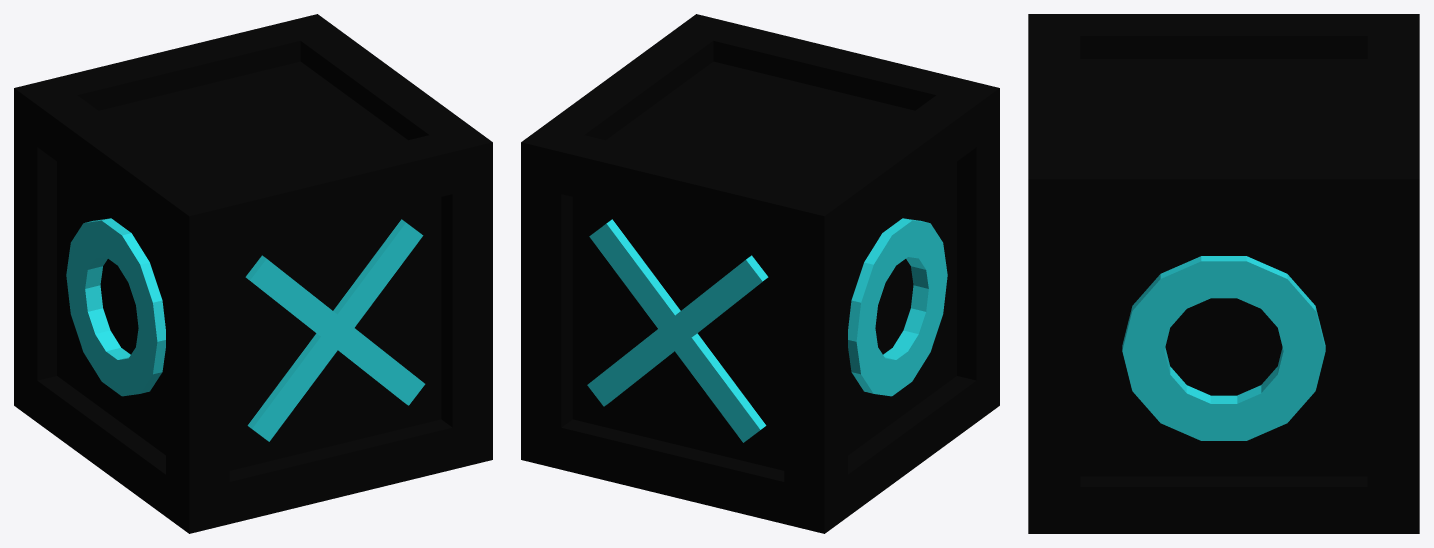
3 renders of one model, left to right at view 1: azimuth 30°, elevation 25°; view 2: azimuth 150°, elevation 25°; view 3: azimuth 270°, elevation 25°, orthographic. The views are drawn at different scales.
Visible parts, largest first — view 1: box2; view 2: box2; view 3: box2.
Boxes of the visible parts, x1,y1,x2,y2 form: box2: [14, 14, 492, 533]; box2: [521, 14, 999, 533]; box2: [1028, 14, 1419, 533].
Size of the model in its own units: 100 by 100 by 100.
